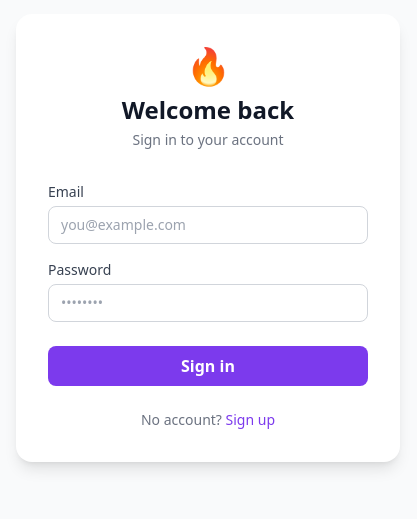
auth flow › shows an error for invalid login credentials
Type "nobody@example.com" into the field with test id "auth-login-email" at (208, 225), box [48, 206, 368, 244]
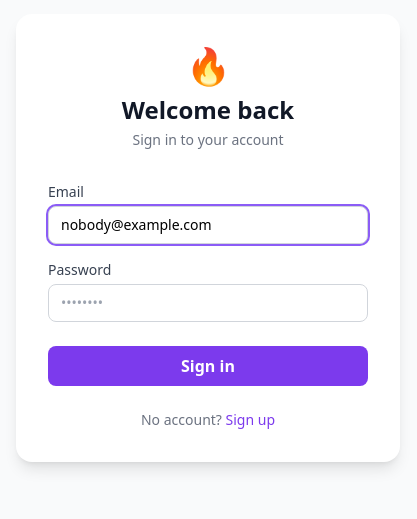
Type "wrongpass" into the password field with test id "auth-login-password" at (208, 303), box [48, 284, 368, 322]
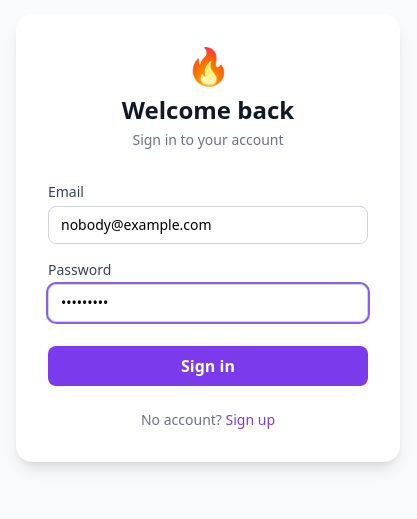
Click the button with test id "auth-login-submit" at (208, 366), box [48, 346, 368, 386]
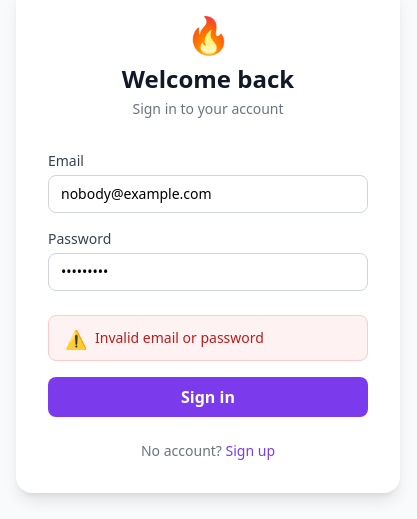
expect the message shows "Invalid email or password": met, box [95, 328, 264, 347]
